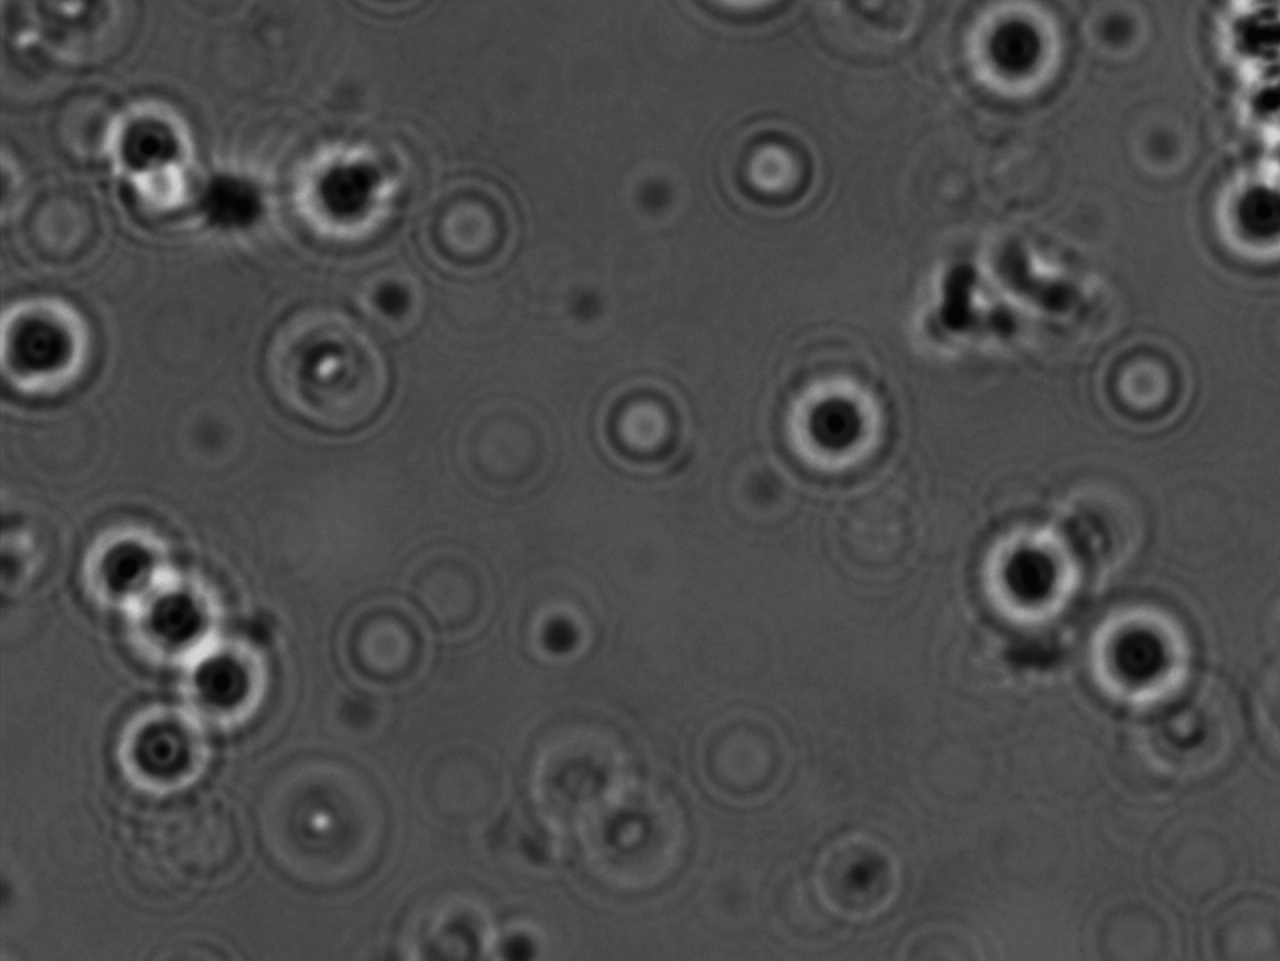depth:-16: (761, 353, 919, 502), (966, 491, 1101, 651), (1066, 592, 1196, 727), (56, 505, 189, 626), (92, 691, 239, 800), (148, 625, 285, 740), (950, 2, 1079, 116), (105, 569, 241, 676), (1181, 147, 1280, 279)
